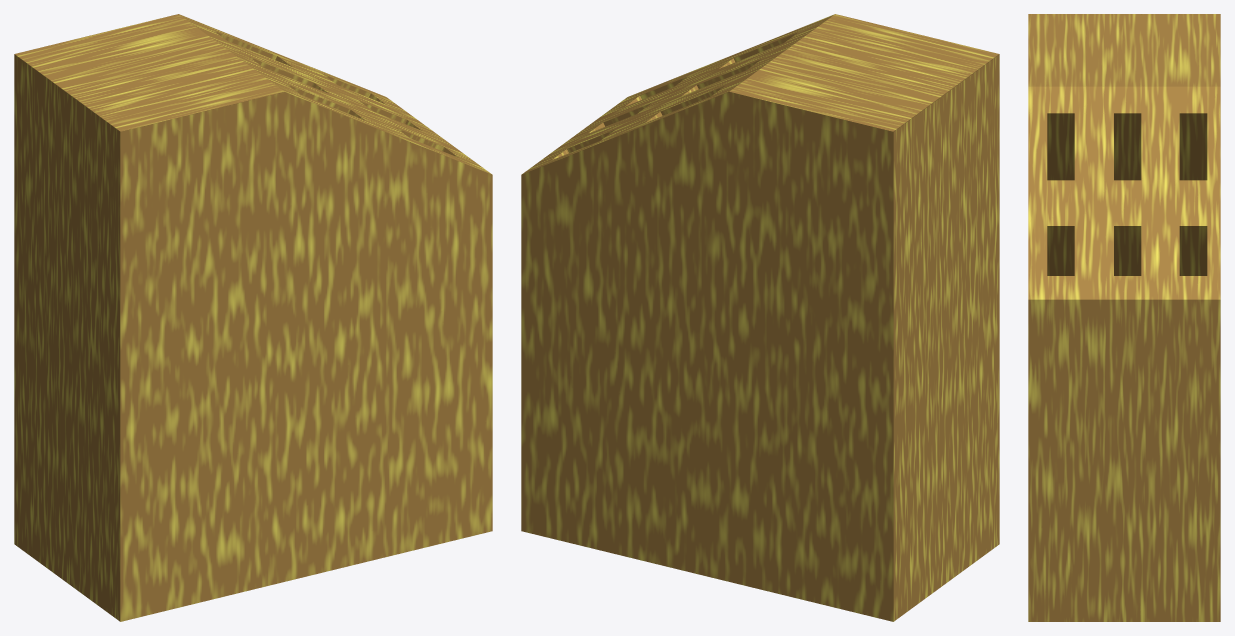
Rendered from KnifeHolder.fbx.
3 views of the same model, side by side, from view 1: azimuth 30°, elevation 25°; view 2: azimuth 150°, elevation 25°; view 3: azimuth 270°, elevation 25° (orthographic). The views are drawn at different scales.
Parts seen in each view (by area): view 1: Cube.001; view 2: Cube.001; view 3: Cube.001.
Part boxes in pixels (box(x1,y1,x2,y2)): Cube.001: box(14, 14, 492, 621); Cube.001: box(521, 14, 999, 621); Cube.001: box(1028, 14, 1220, 621).
Bounding box in the file's own units: 371 × 467 × 184.
1 material, 1 textured.
